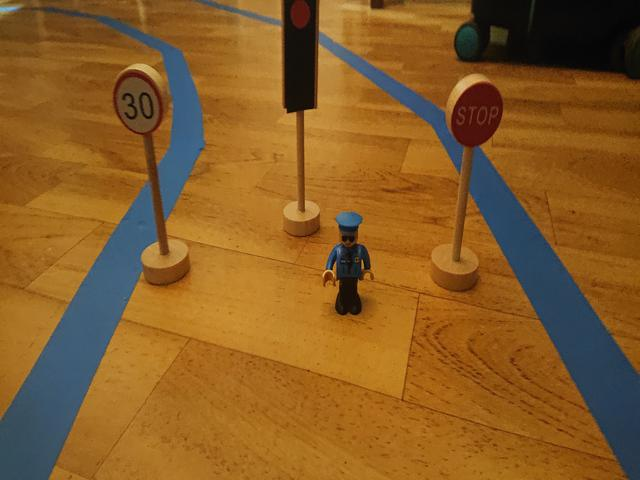30 speed sign: (111, 65, 166, 138)
person: (323, 210, 375, 319)
red light: (284, 1, 316, 100)
stop sign: (451, 78, 506, 146)
